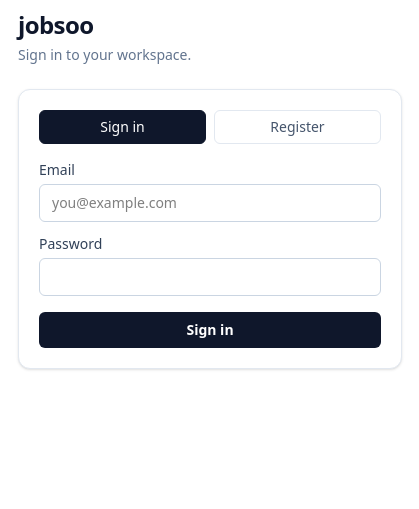
Auth screen › shows the connectivity message only for genuine connection failures
Click the button "Register" at (298, 127), box 214,110 -> 381,144
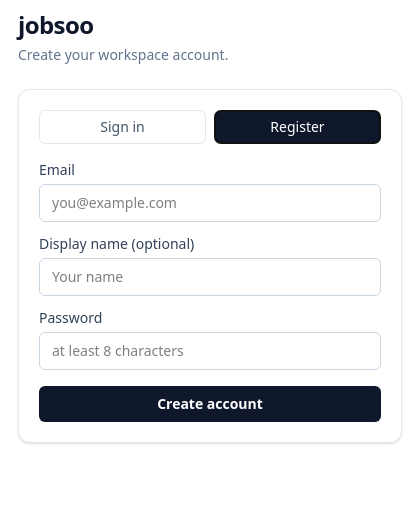
Type "down@example.com" into the field labelled "Email" at (210, 203), box 39,184 -> 381,222
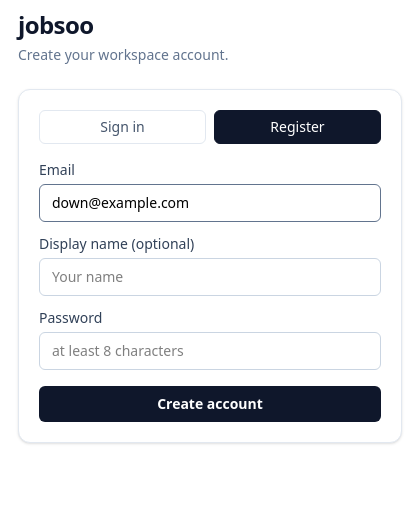
Type "valid-pass-123" into the password field labelled "Password" at (210, 351), box 39,332 -> 381,370
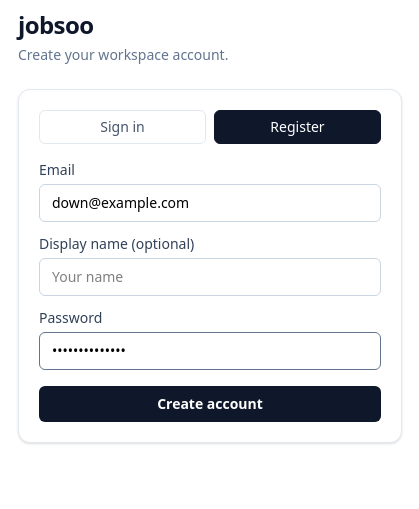
Click the button with test id "auth-submit" at (210, 404), box 39,386 -> 381,422
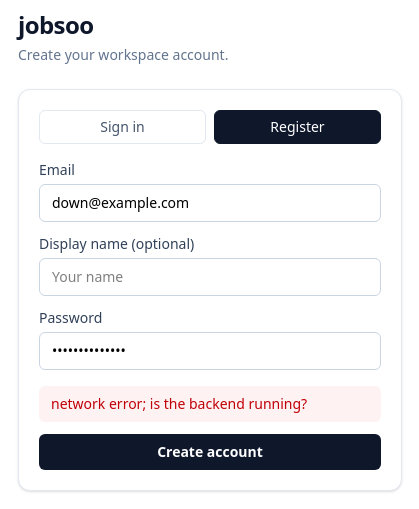
Result: the message reads "network error; is the backend running?" at 51,394 -> 307,413
